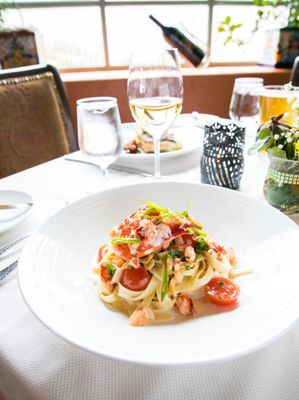curry: (0, 87, 299, 400)
pasta: (0, 63, 80, 180)
sandwich: (126, 48, 184, 181), (75, 97, 122, 189)
soup: (262, 149, 299, 217)
